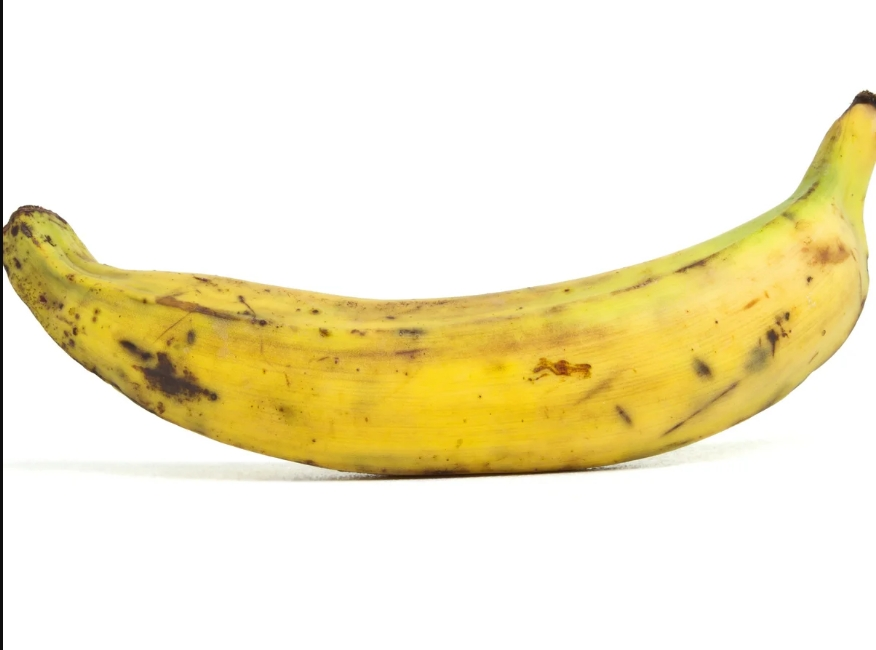banana: (5, 91, 876, 511)
